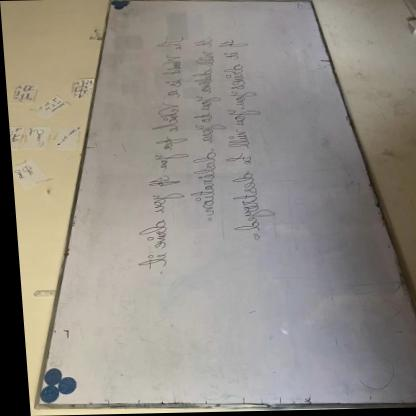Handwritten text: (197, 29, 276, 238), (127, 32, 188, 273), (176, 33, 222, 217)
Whiteboard: (27, 0, 416, 409)
